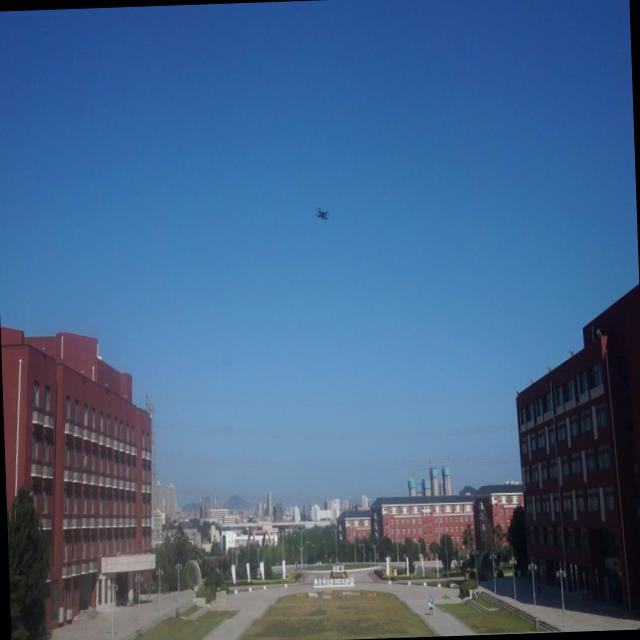drone: (314, 201, 331, 226)
